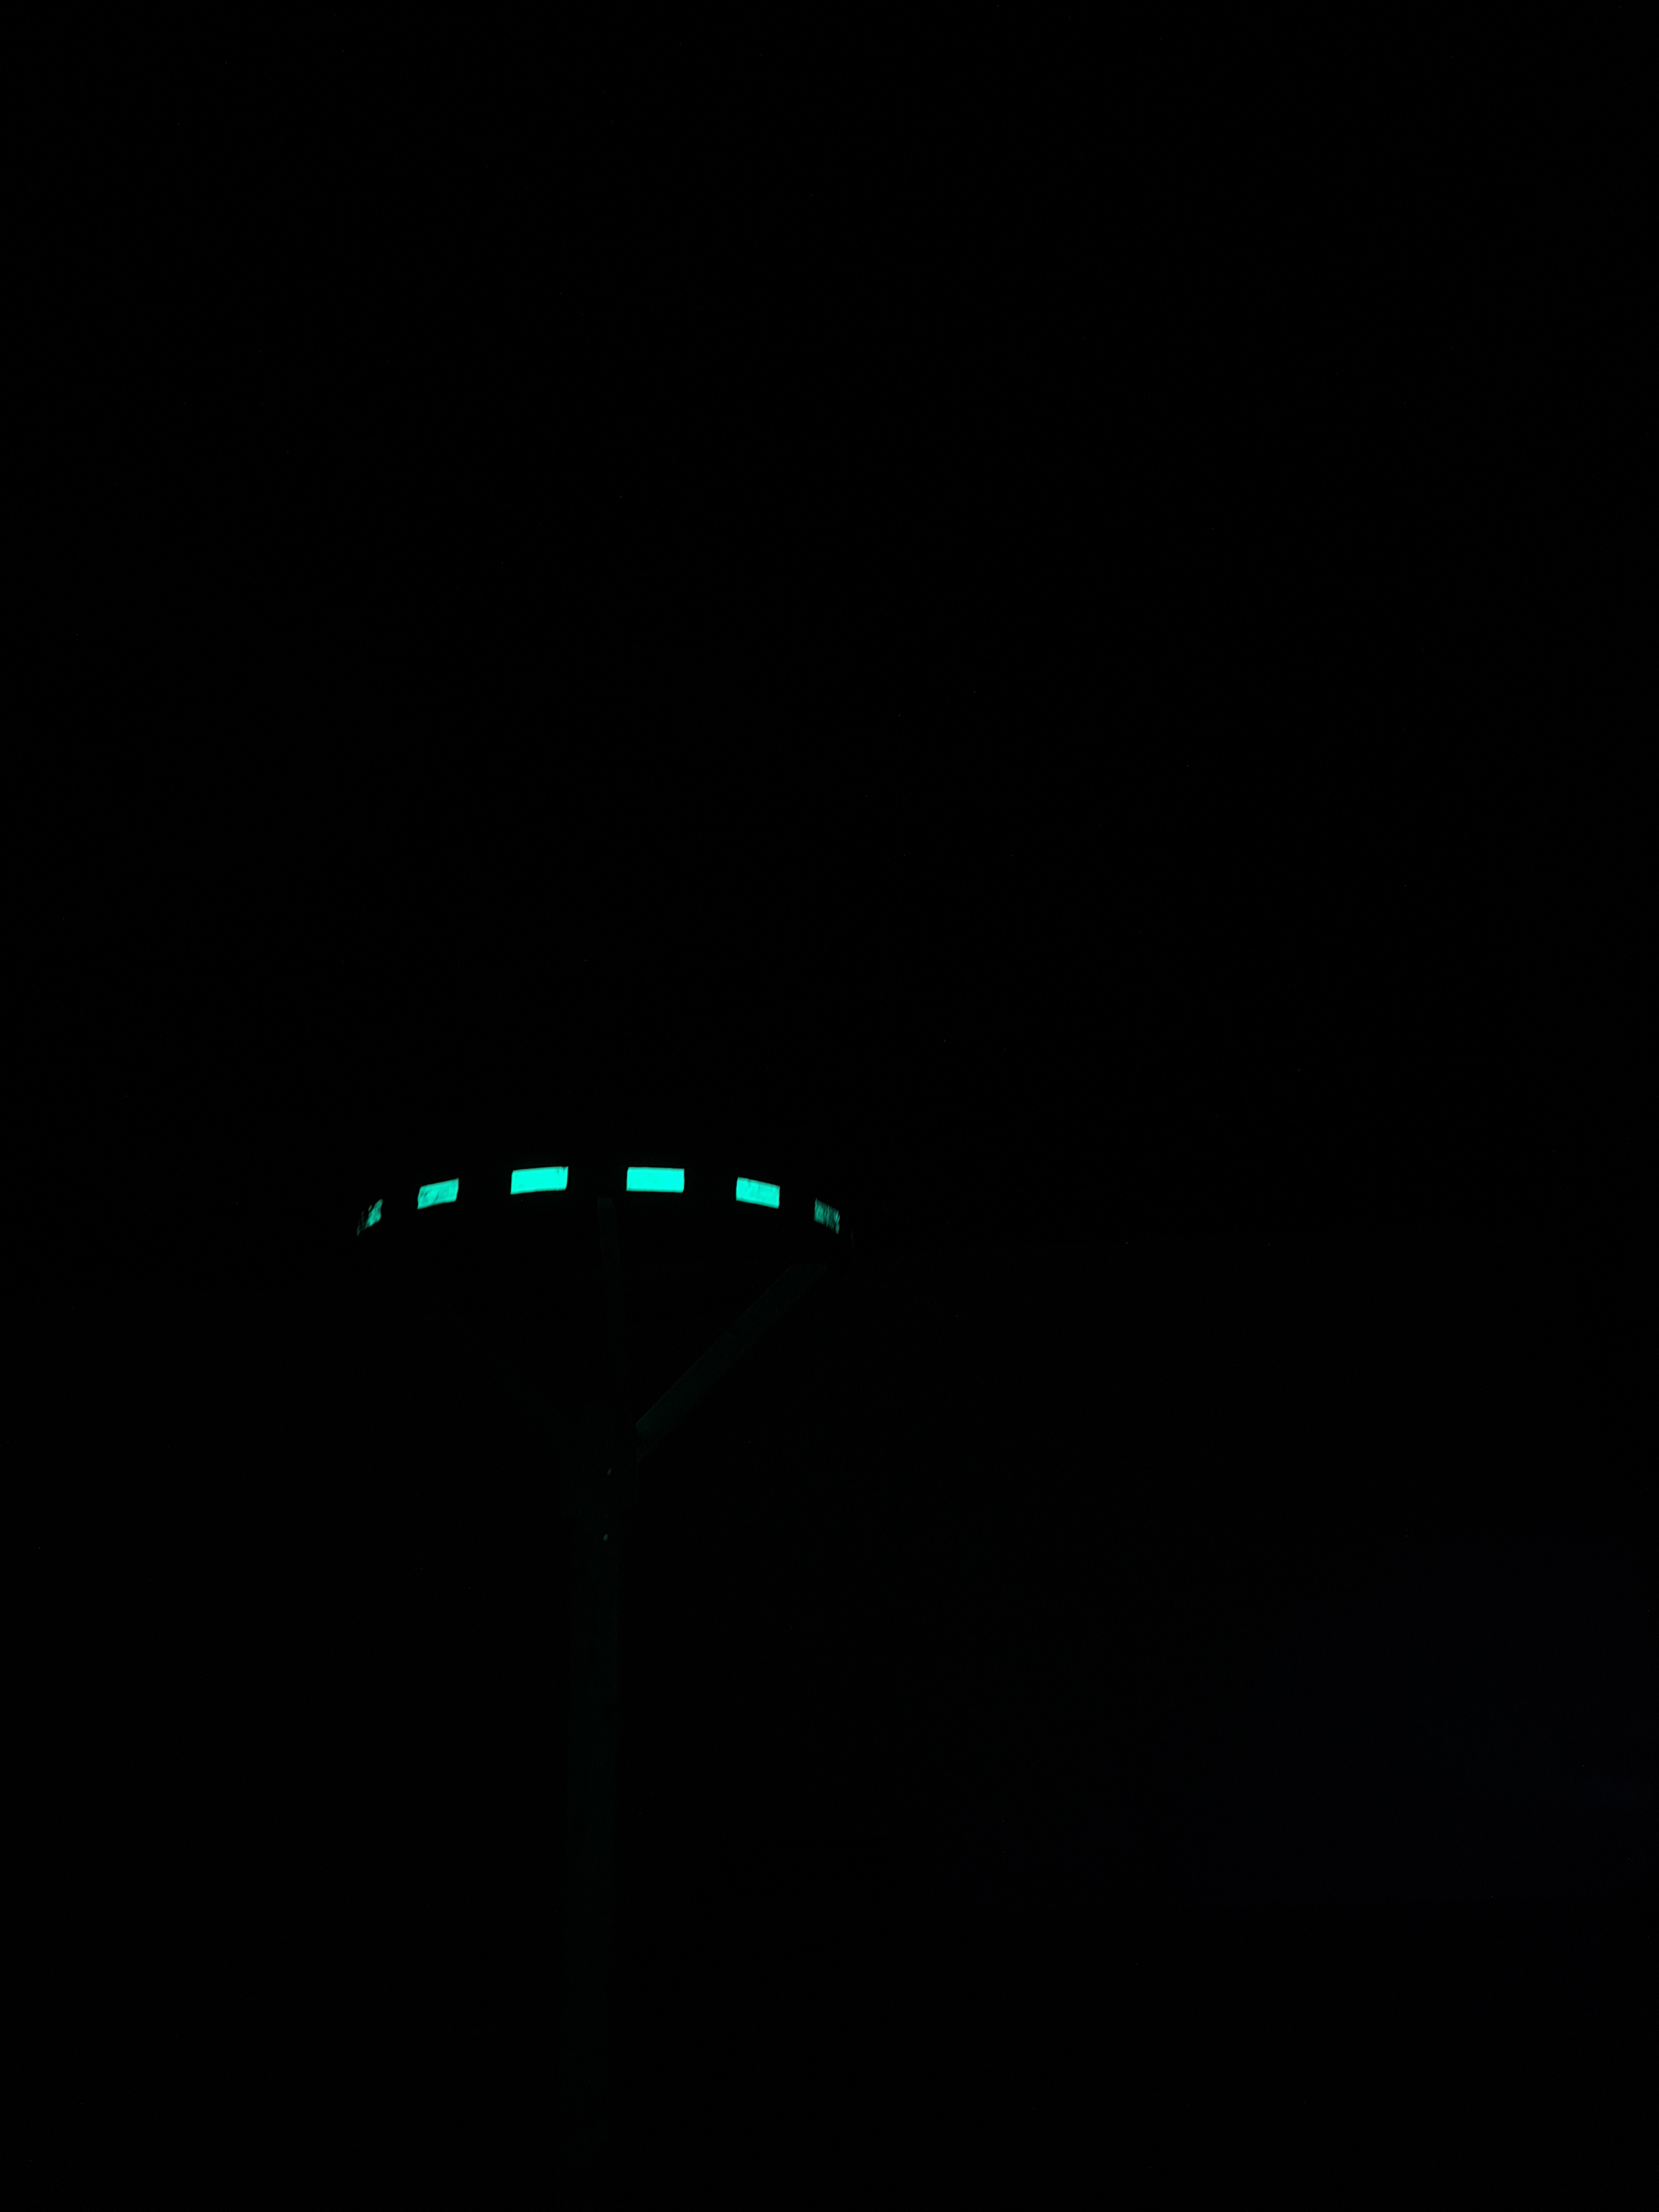hoop: (350, 1165, 845, 1247)
